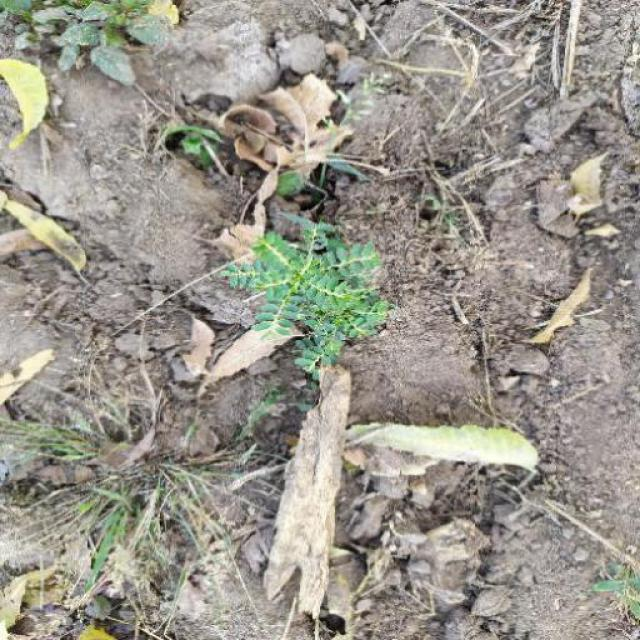weed: (48, 412, 286, 620), (228, 216, 398, 395)
